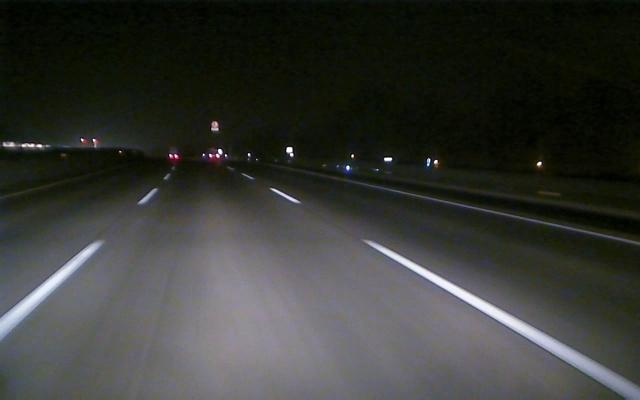lane: (268, 188, 637, 396), (2, 188, 158, 339), (385, 187, 640, 247)
